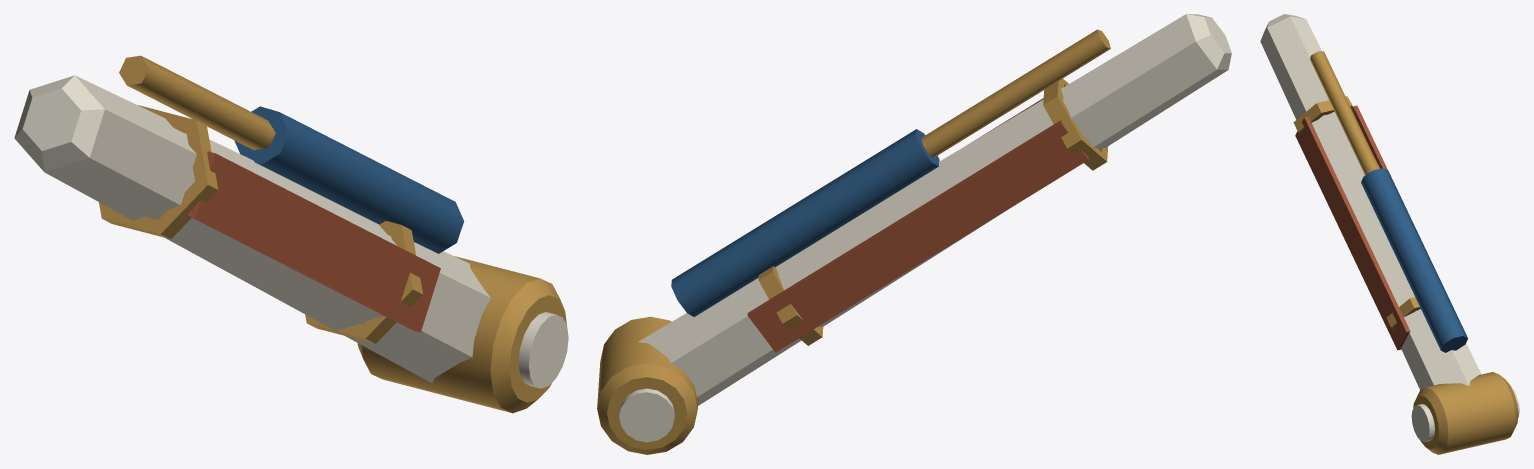
File: rm2_leg_fr_femur.obj
3 views of the same model, side by side, from view 1: azimuth 30°, elevation 25°; view 2: azimuth 150°, elevation 25°; view 3: azimuth 270°, elevation 25° (orthographic). The views are drawn at different scales.
Parts seen in each view (by area): view 1: rm2_leg_fr_femur; view 2: rm2_leg_fr_femur; view 3: rm2_leg_fr_femur.
Boxes of the visible parts, box(x1,y1,x2,y2) form: rm2_leg_fr_femur: box(14, 55, 568, 413); rm2_leg_fr_femur: box(597, 14, 1231, 454); rm2_leg_fr_femur: box(1260, 14, 1519, 454).
Size of the model in its own units: 0.5366 by 0.4271 by 0.3449.
